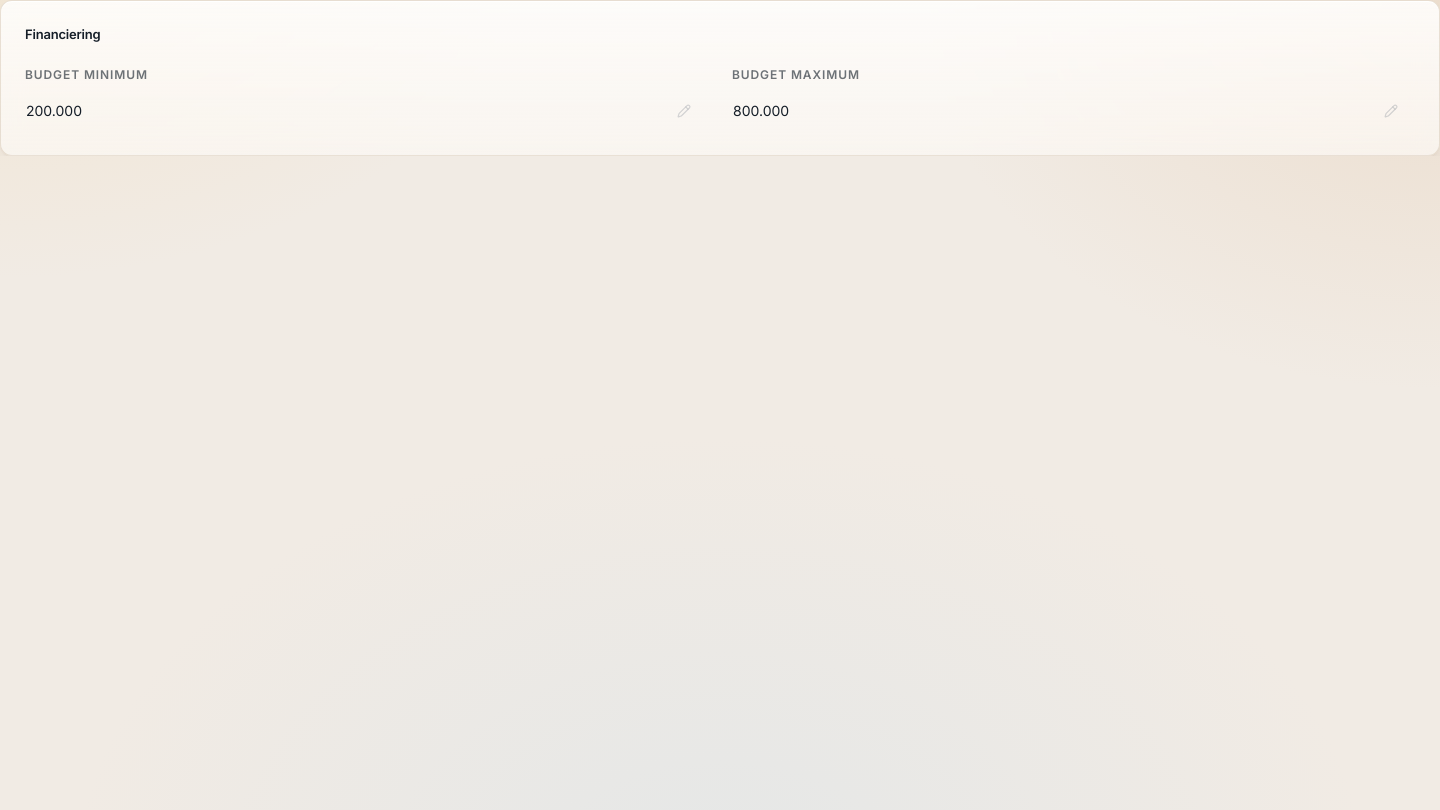
Direct bewerken Relaties: klik op afzonderlijke veldwaarde › weigert negatieve bedragen en behoudt het veld bij validatiefout
Click the button named "Wijzig Budget maximum" at (761, 110), box [724, 90, 1407, 130]
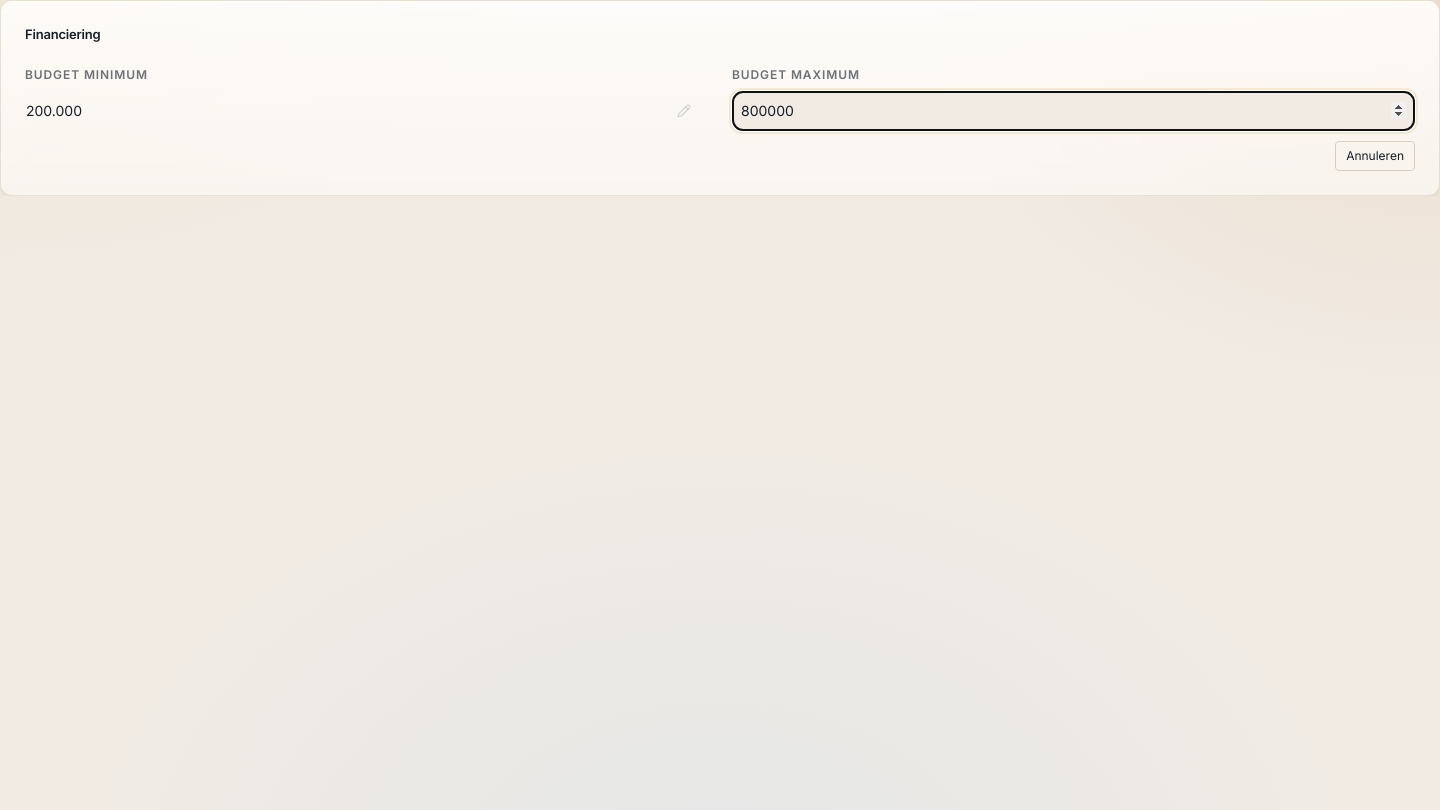
Replace the text in the number field labelled "Budget maximum" with "-2" at (1074, 110), box [732, 90, 1415, 130]
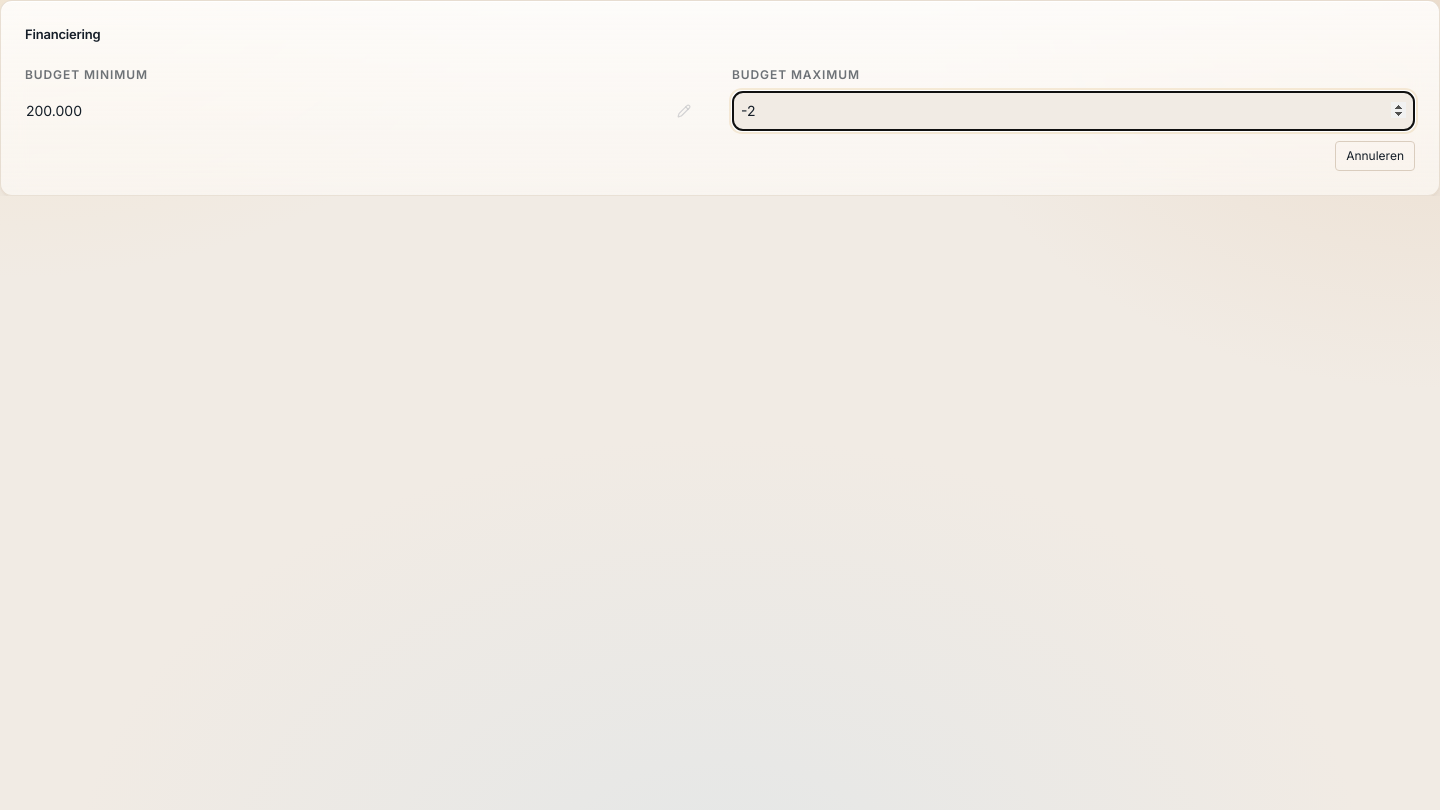
Leave the number field labelled "Budget maximum", box [732, 90, 1415, 130]
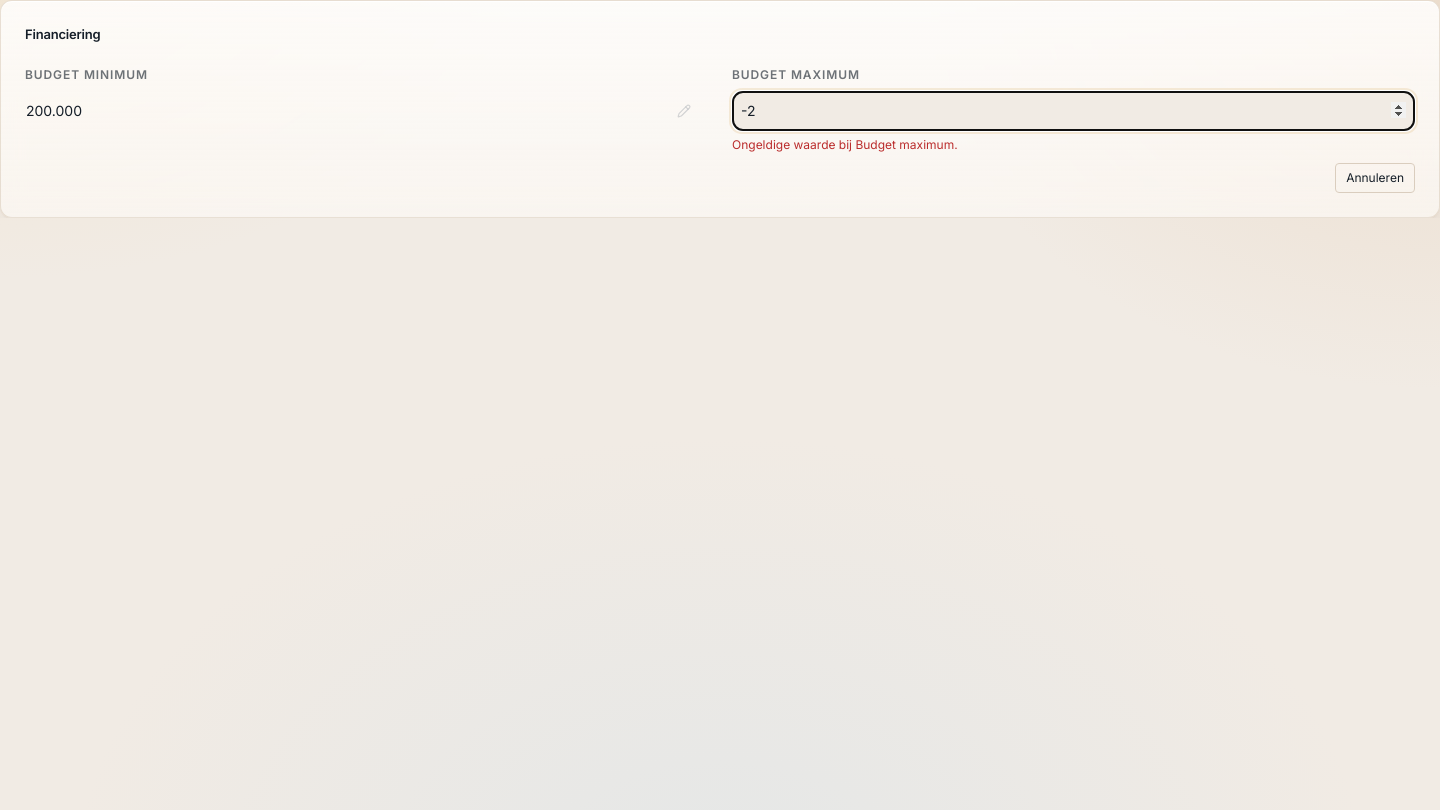
Expected: the message shows "Ongeldige waarde", [732, 136, 958, 152]
